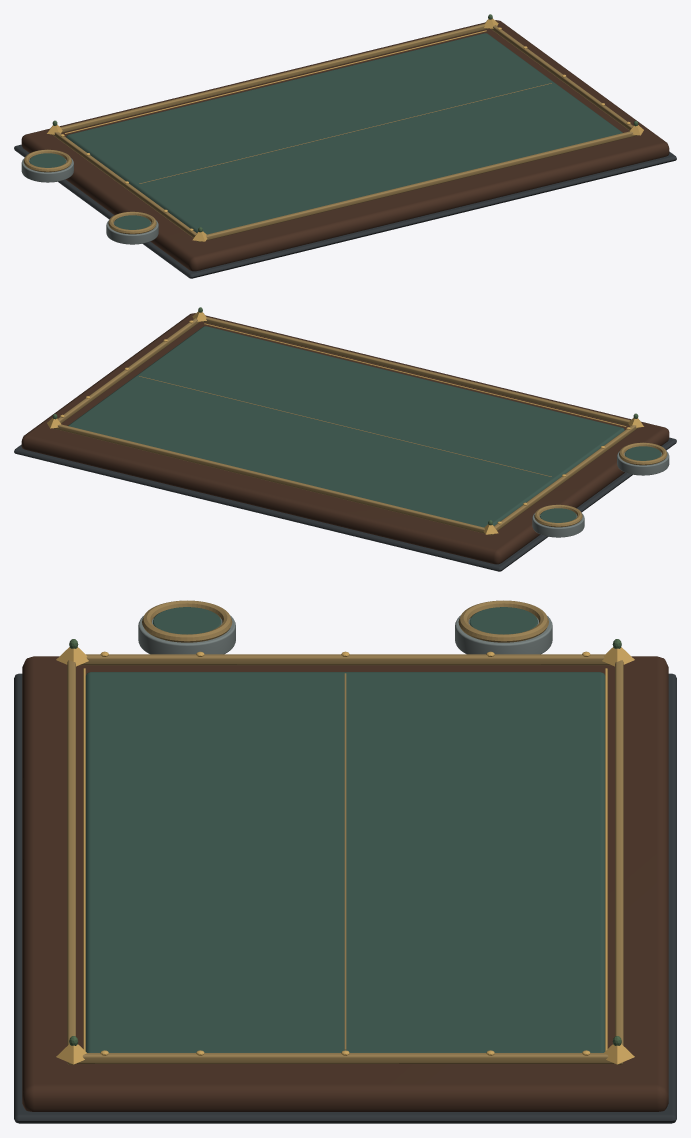
The model's file is board-surface-v1.glb.
The picture shows the model from 3 angles, top to bottom: view 1: azimuth 30°, elevation 25°; view 2: azimuth 150°, elevation 25°; view 3: azimuth 270°, elevation 25°; orthographic projection. The views are drawn at different scales.
Visible parts, largest first — view 1: Playing surface single quiet slab, Walnut board body, Lower iron rim, Bronze long border, Bronze long border.001, Bronze side border, Bronze side border.001, Fine inner gold line.001, Empty avatar pedestal, Empty avatar pedestal.001, Central combat seam, Avatar bronze ring.001 (+3 smaller); view 2: Playing surface single quiet slab, Walnut board body, Lower iron rim, Bronze long border.001, Bronze long border, Bronze side border, Bronze side border.001, Fine inner gold line, Empty avatar pedestal.001, Empty avatar pedestal, Central combat seam, Avatar bronze ring (+3 smaller); view 3: Playing surface single quiet slab, Walnut board body, Lower iron rim, Bronze side border, Bronze side border.001, Bronze long border, Bronze long border.001, Empty avatar pedestal, Empty avatar pedestal.001, Avatar bronze ring, Avatar bronze ring.001, Avatar slate center (+4 smaller).
Boxes of the visible parts, left/top/right/bottom form: Playing surface single quiet slab: left=66, top=33, right=622, bottom=234; Walnut board body: left=21, top=20, right=669, bottom=271; Lower iron rim: left=14, top=144, right=676, bottom=278; Bronze long border: left=196, top=131, right=637, bottom=242; Bronze long border.001: left=51, top=24, right=489, bottom=135; Bronze side border: left=53, top=132, right=196, bottom=237; Bronze side border.001: left=491, top=25, right=632, bottom=130; Fine inner gold line.001: left=64, top=30, right=486, bottom=133; Empty avatar pedestal: left=106, top=220, right=158, bottom=244; Empty avatar pedestal.001: left=21, top=158, right=73, bottom=182; Central combat seam: left=139, top=83, right=551, bottom=183; Avatar bronze ring.001: left=23, top=149, right=71, bottom=172; Playing surface single quiet slab: left=68, top=326, right=624, bottom=527; Walnut board body: left=21, top=313, right=669, bottom=564; Lower iron rim: left=14, top=437, right=676, bottom=571; Bronze long border.001: left=53, top=424, right=494, bottom=535; Bronze long border: left=201, top=317, right=639, bottom=428; Bronze side border: left=494, top=425, right=637, bottom=530; Bronze side border.001: left=58, top=318, right=199, bottom=423; Fine inner gold line: left=204, top=323, right=626, bottom=426; Empty avatar pedestal.001: left=532, top=513, right=584, bottom=537; Empty avatar pedestal: left=617, top=451, right=669, bottom=475; Central combat seam: left=139, top=376, right=551, bottom=476; Avatar bronze ring: left=619, top=442, right=667, bottom=465; Playing surface single quiet slab: left=85, top=672, right=605, bottom=1052; Walnut board body: left=22, top=656, right=668, bottom=1111; Lower iron rim: left=14, top=673, right=676, bottom=1123; Bronze side border: left=79, top=654, right=611, bottom=665; Bronze side border.001: left=75, top=1053, right=615, bottom=1063; Bronze long border: left=67, top=660, right=75, bottom=1064; Bronze long border.001: left=615, top=660, right=623, bottom=1064; Empty avatar pedestal: left=138, top=615, right=235, bottom=654; Empty avatar pedestal.001: left=455, top=615, right=552, bottom=654; Avatar bronze ring: left=142, top=600, right=232, bottom=642; Avatar bronze ring.001: left=458, top=600, right=548, bottom=642; Avatar slate center: left=153, top=607, right=221, bottom=634.
Bounding box in the file's own units: 17.07 × 1.09 × 10.05.
